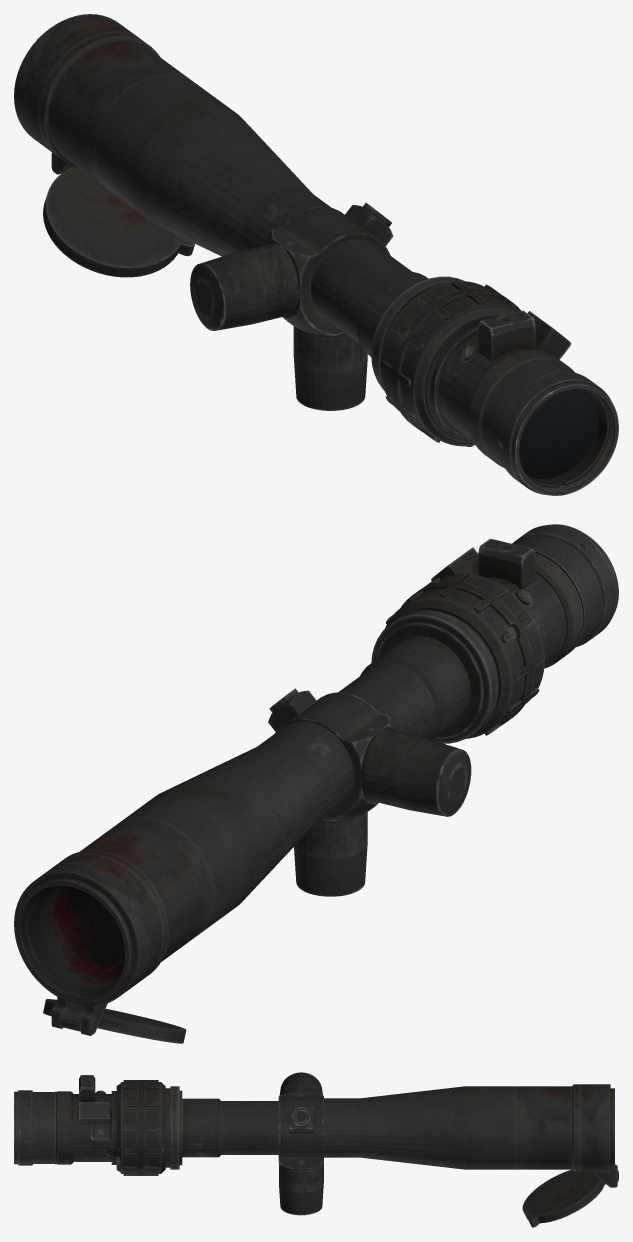
3 views of the same model, one above another, from view 1: azimuth 30°, elevation 25°; view 2: azimuth 150°, elevation 25°; view 3: azimuth 270°, elevation 25° (orthographic). The views are drawn at different scales.
Visible parts, largest first — view 1: TW_5d0a3a58d7ad1a669c15ca14_PZ_Import; view 2: TW_5d0a3a58d7ad1a669c15ca14_PZ_Import; view 3: TW_5d0a3a58d7ad1a669c15ca14_PZ_Import.
Boxes of the visible parts, <box> form: TW_5d0a3a58d7ad1a669c15ca14_PZ_Import: <box>14,14,618,495</box>; TW_5d0a3a58d7ad1a669c15ca14_PZ_Import: <box>14,524,618,1043</box>; TW_5d0a3a58d7ad1a669c15ca14_PZ_Import: <box>14,1072,618,1227</box>.
Bounding box in the file's own units: 0.0461 × 0.2036 × 0.0496.
1 material, 1 textured.
